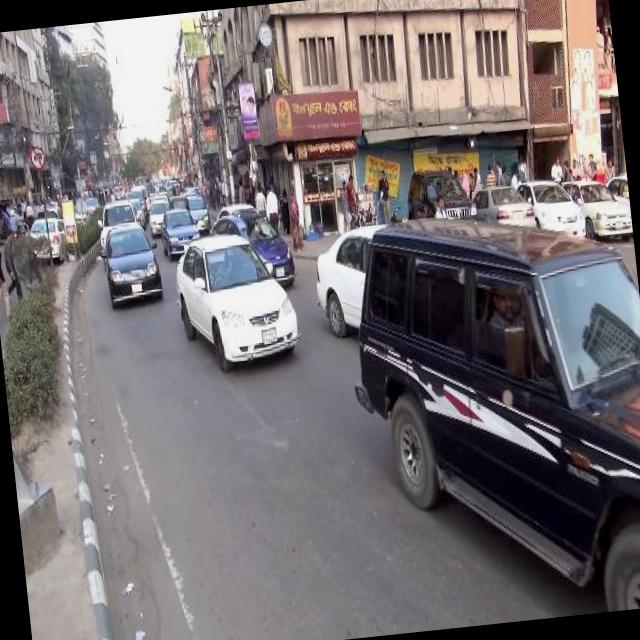car: (337, 194, 640, 628), (170, 223, 308, 379), (210, 203, 299, 295), (305, 220, 366, 340), (98, 219, 166, 311), (401, 160, 478, 225), (469, 176, 536, 234), (528, 168, 586, 235), (580, 166, 632, 238), (24, 210, 68, 272), (157, 208, 203, 262), (185, 190, 210, 228), (146, 197, 170, 234)
motorcycle: (168, 190, 192, 214), (347, 201, 366, 231), (362, 197, 382, 219)
